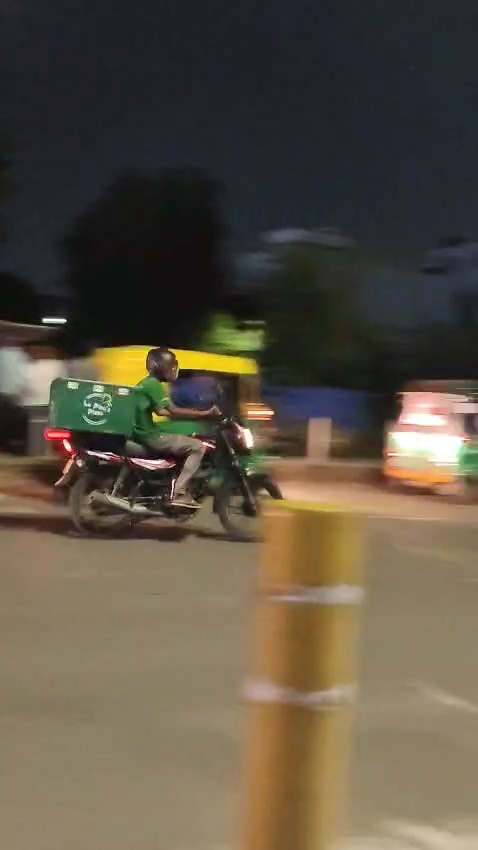BikeWithRider: (34, 341, 293, 546)
Helmet: (139, 342, 185, 386)
